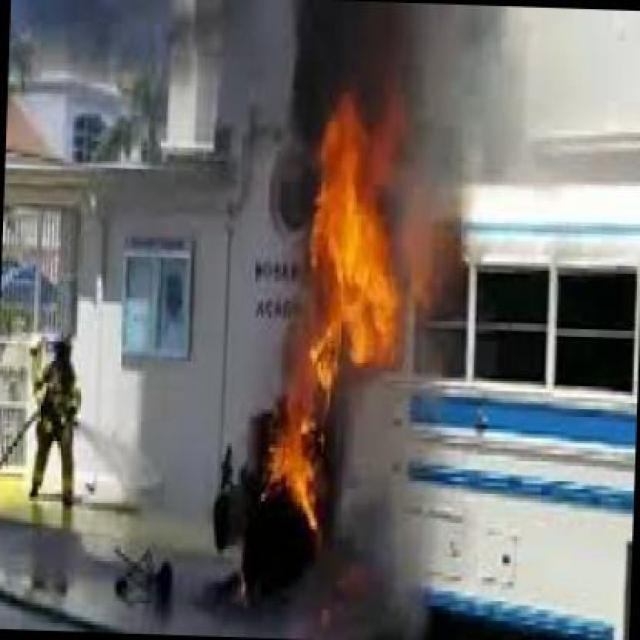Fire: (280, 121, 416, 368), (264, 358, 356, 520)
Smoke: (13, 0, 266, 131), (276, 0, 540, 110), (417, 107, 550, 310)
